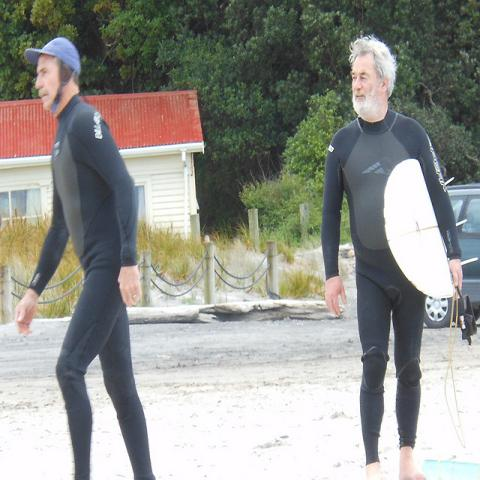car: (422, 185, 479, 330)
